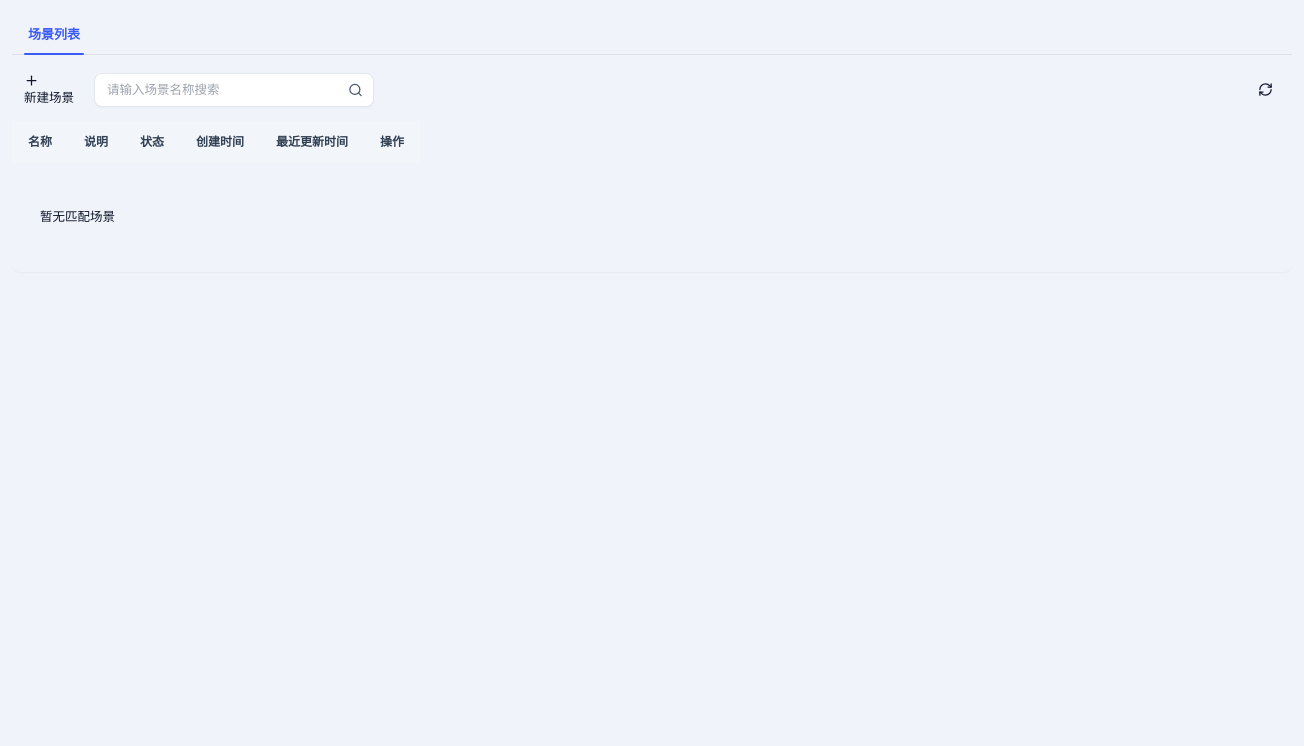
it: 静默处理与插话处理配置组 › 渲染独立的静默处理/插话处理分组，废弃话术项不再出现在表单里
Step 1. Click the button "新建场景" → [49, 90], box [12,72,86,106]
(page scrolled)
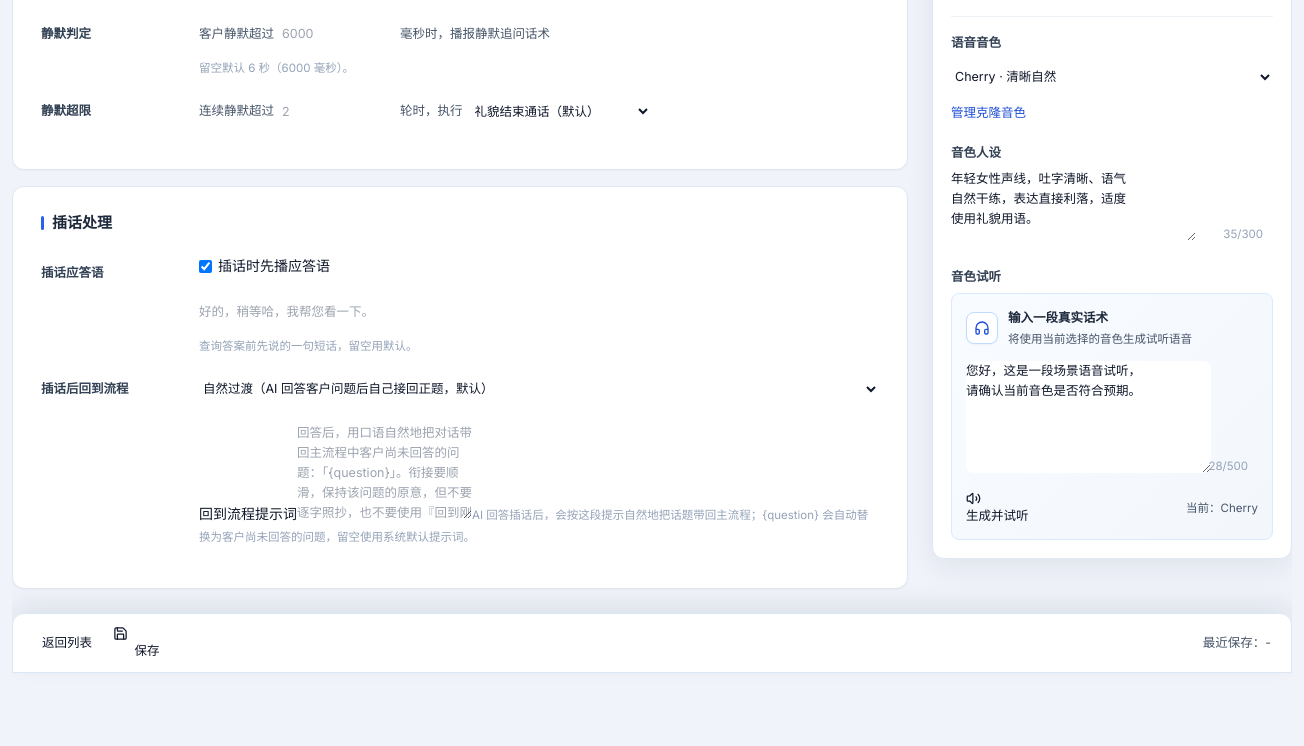
Now the heading "插话处理" is shown, box [52,213,112,232]
Now the number field named "静默超时时间" is shown, box [282,16,392,52]
Now the number field named "连续静默轮数" is shown, box [282,93,392,129]
